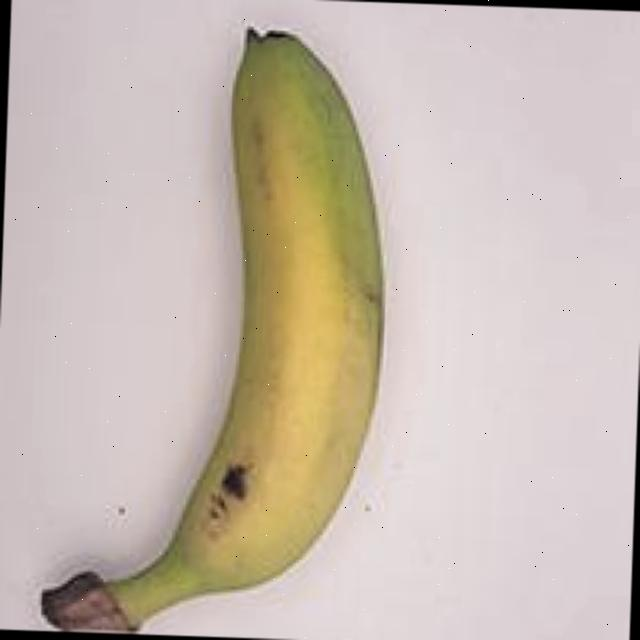Unripe: (31, 3, 427, 640)
